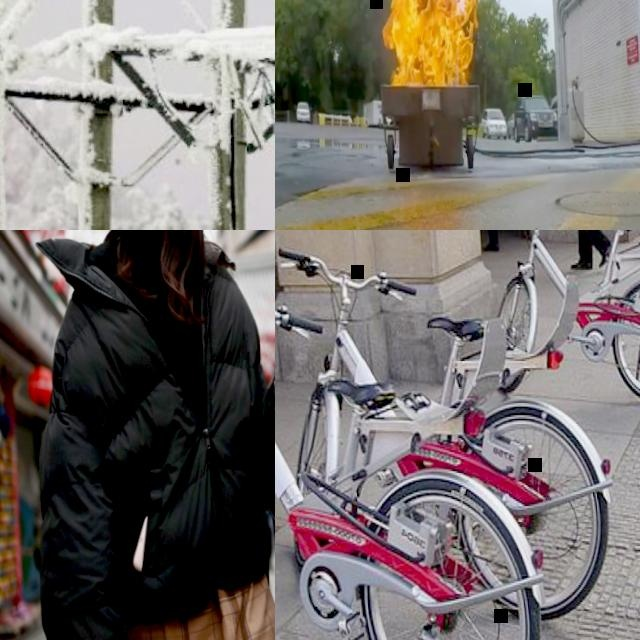NO-Safety Vest: (88, 250, 266, 620)
Person: (21, 230, 275, 640), (560, 230, 615, 268)
vehicle: (513, 92, 557, 141), (480, 106, 506, 138), (294, 101, 310, 121), (377, 109, 391, 127), (506, 113, 513, 138), (550, 93, 557, 117)
